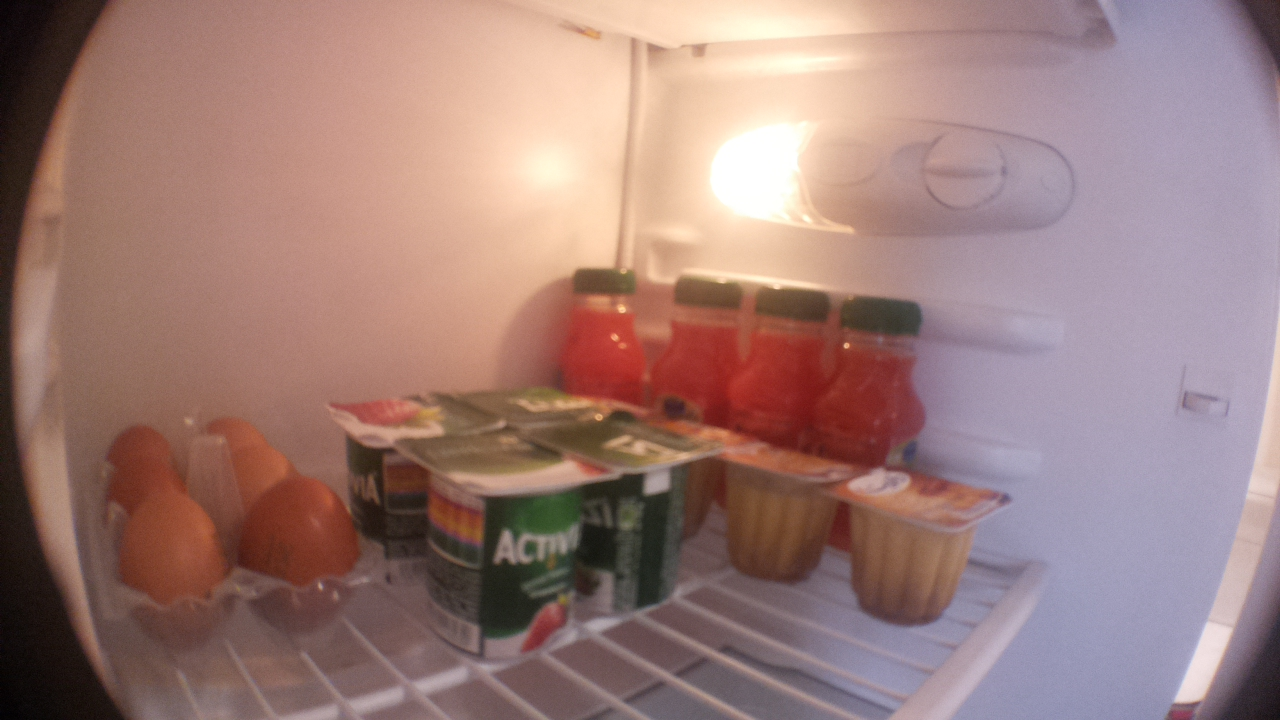egg: (116, 478, 235, 655), (247, 477, 363, 632), (104, 451, 188, 506), (234, 440, 310, 486), (108, 423, 184, 455), (195, 418, 284, 445)
